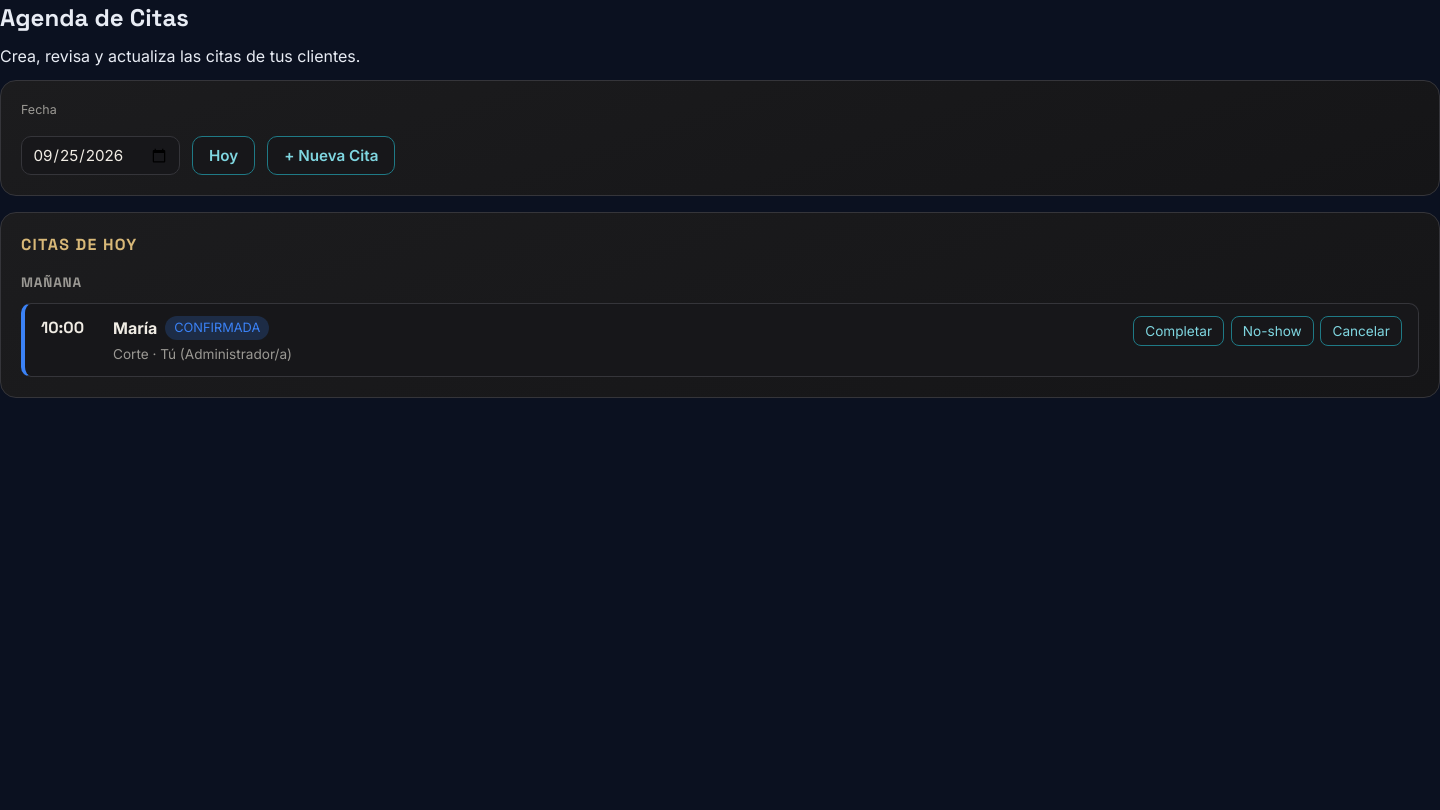
Test: AgendaScreen › completar una cita "confirmada" abre el modal de método de pago
Expected: the text "María" is shown, left=113, top=316, right=157, bottom=340
Click the button "Completar": {"x": 1179, "y": 331} left=1133, top=316, right=1224, bottom=346
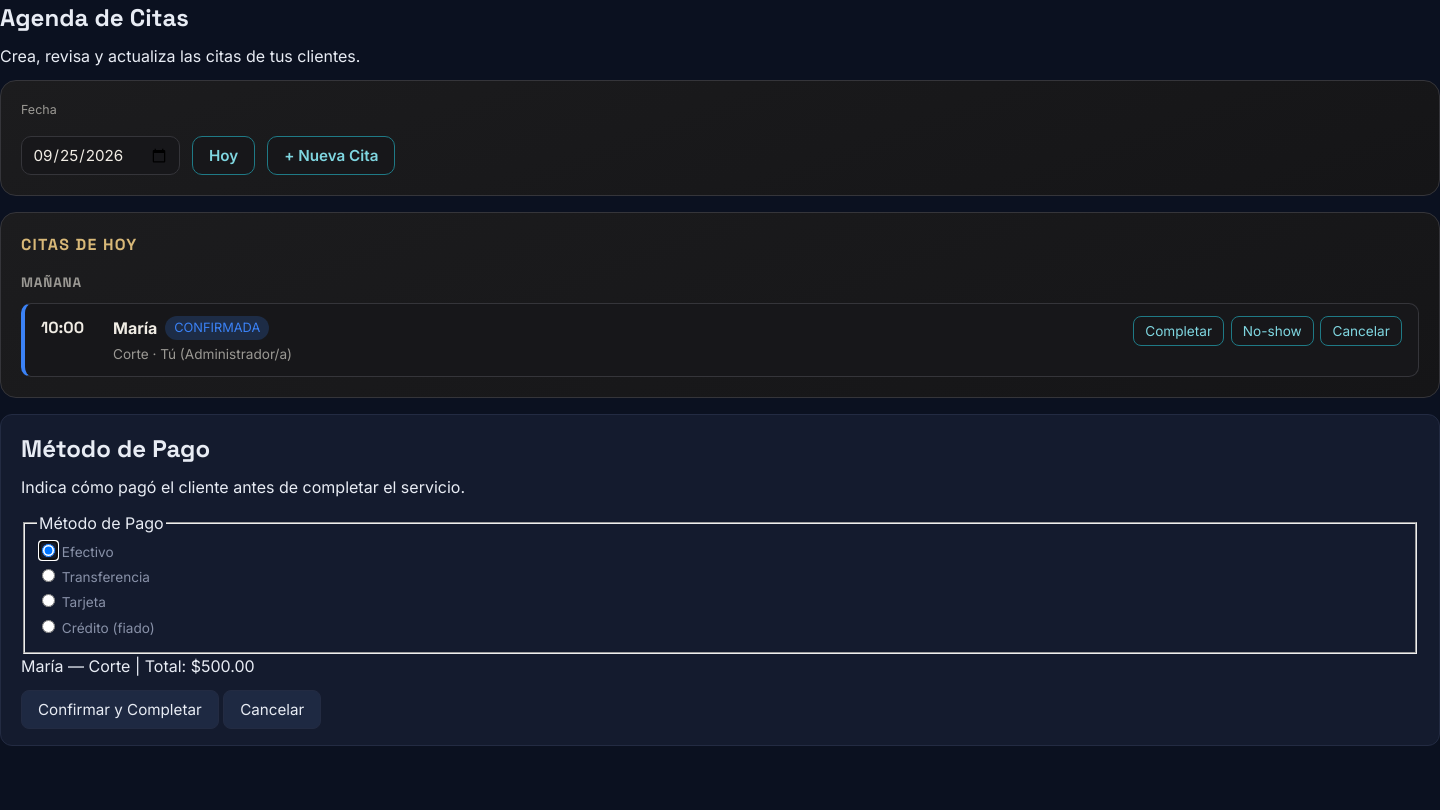
Expected: the dialog is shown, left=0, top=414, right=1439, bottom=746
